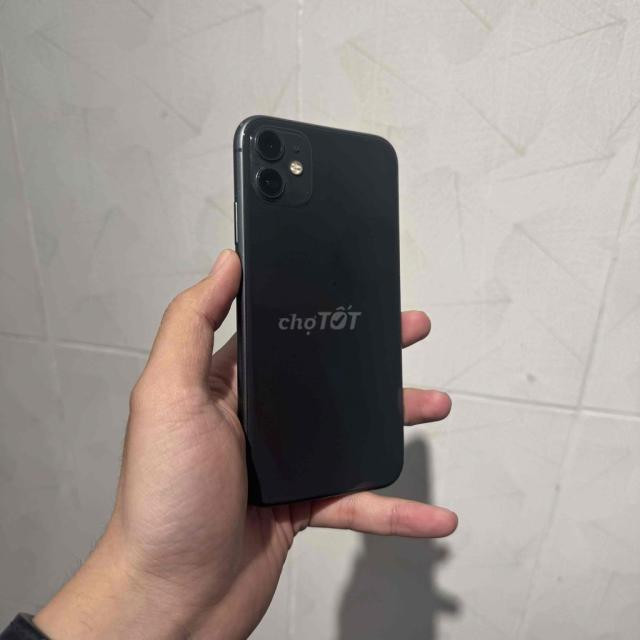gen_11: (219, 103, 433, 506)
